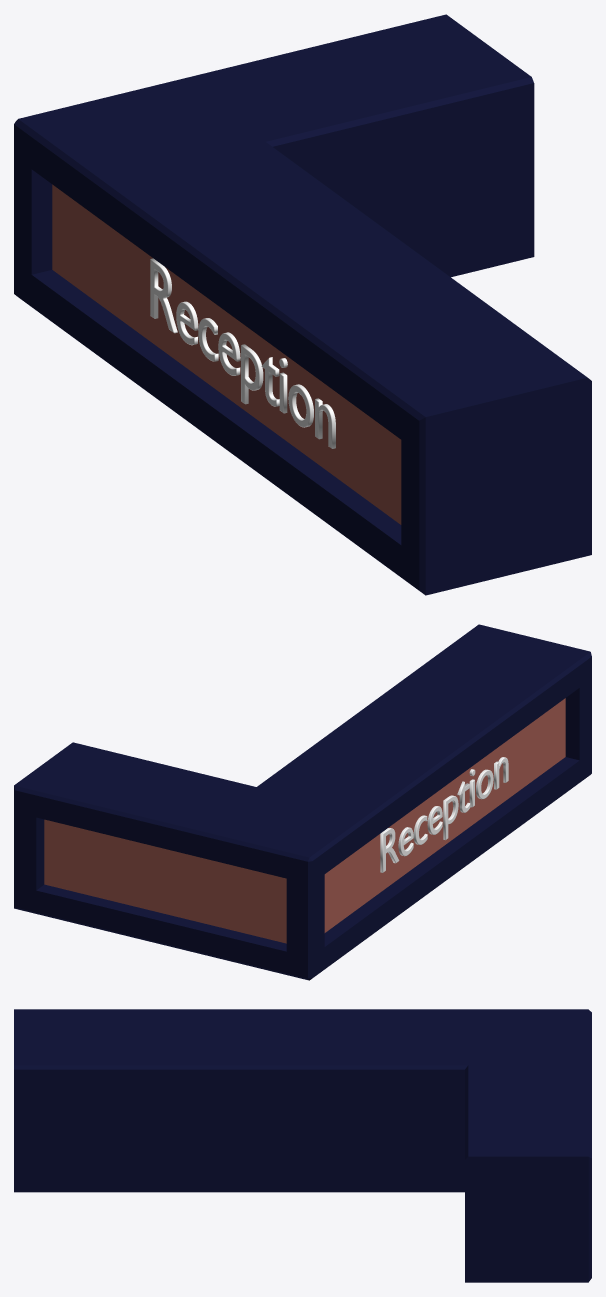
File: REception 1.fbx
The picture shows the model from 3 angles, top to bottom: view 1: azimuth 30°, elevation 25°; view 2: azimuth 150°, elevation 25°; view 3: azimuth 270°, elevation 25°; orthographic projection. The views are drawn at different scales.
Visible parts, largest first — view 1: Text.001; view 2: Text.001; view 3: Text.001.
Part boxes in pixels (x1,y1,x2,y2): Text.001: (14, 14, 591, 595); Text.001: (14, 624, 591, 980); Text.001: (14, 1009, 591, 1282).
Bounding box in the file's own units: 2.74 × 1.08 × 4.5.
